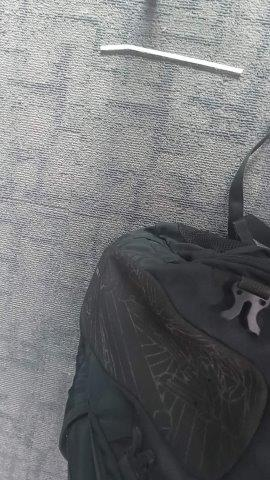sedotan: (100, 45, 242, 73)
